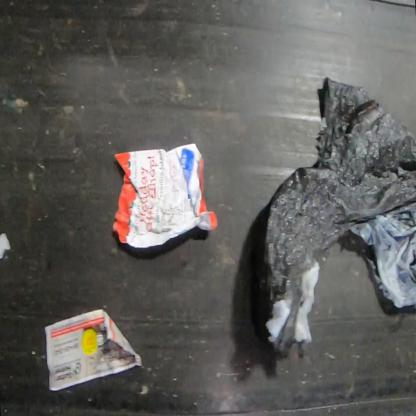soft_plastic: (264, 76, 415, 360)
